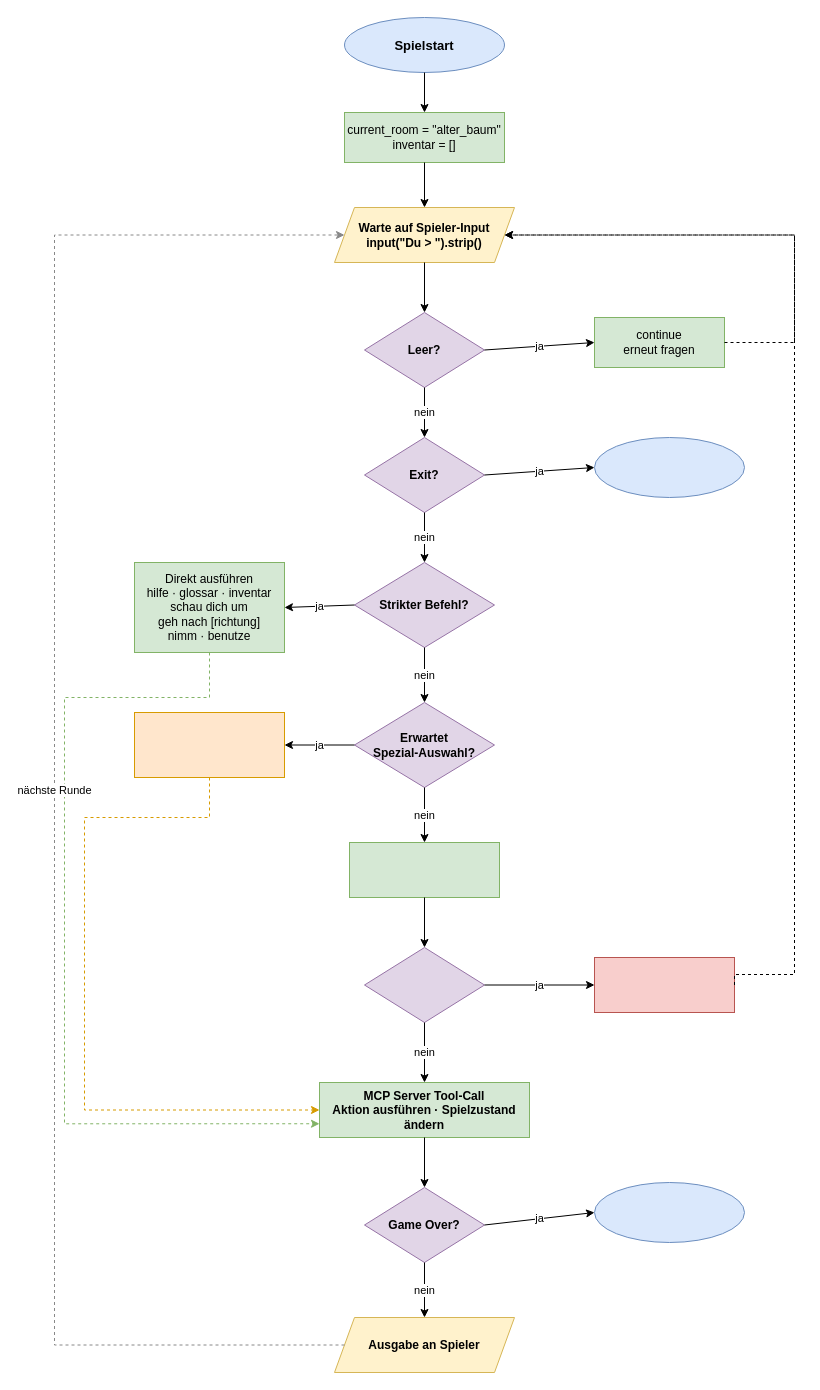
Some shapes in this 820 by 1390 pixel diagram are drawn without their labels. The shapes that lost their labels are listed below. From the top down, each one's box as (x1, y1, x2, y2) in pixels, then its label:
(594, 436, 744, 498): Spiel Ende quit · ende · exit · q
(134, 712, 284, 778): Spezial Eingabe (z.b verbrenne Foto)
(348, 842, 500, 898): Ollama
(364, 946, 484, 1022): Ungültige Eingabe?
(594, 956, 734, 1012): Text von Ollama generiert
(594, 1182, 744, 1242): Endbildschirm GOOD · BAD Panel
